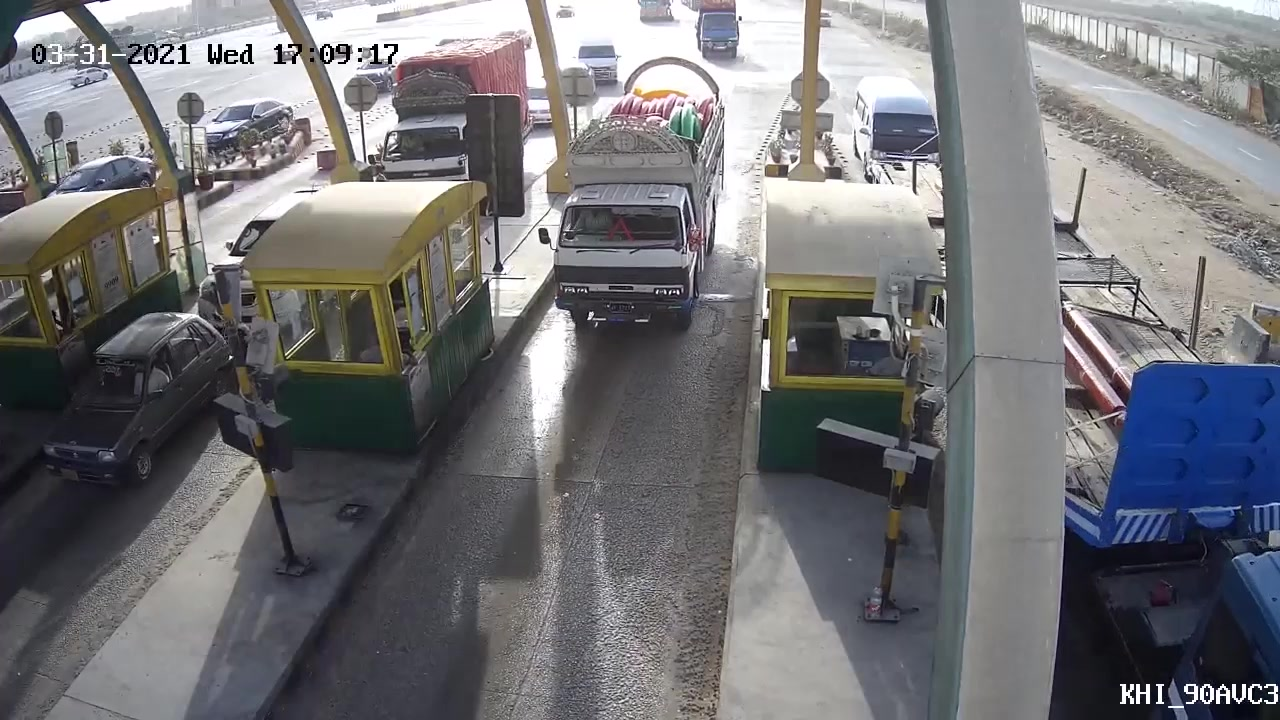F5: (525, 55, 739, 345)
